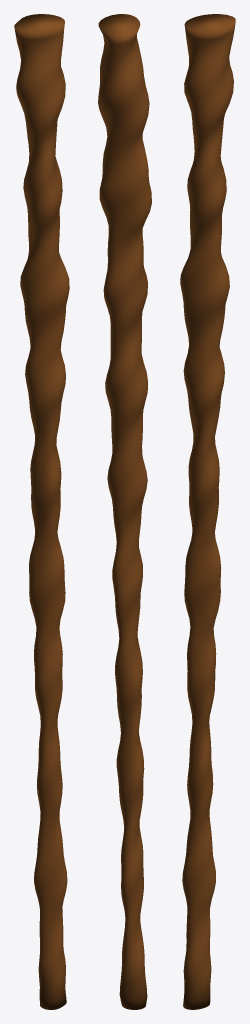
The model's file is coffee-stream.glb.
3 renders of one model, left to right at view 1: azimuth 90°, elevation 25°; view 2: azimuth 150°, elevation 25°; view 3: azimuth 270°, elevation 25°, orthographic.
Visible parts, largest first — view 1: Coffee_Stream_Export; view 2: Coffee_Stream_Export; view 3: Coffee_Stream_Export.
Boxes of the visible parts, <box> form: Coffee_Stream_Export: <box>14,14,69,1009</box>; Coffee_Stream_Export: <box>98,14,151,1009</box>; Coffee_Stream_Export: <box>180,14,235,1009</box>.
Bounding box in the file's own units: 0.00754 × 0.1469 × 0.00753.
Materials: 1 (1 with a texture image).
